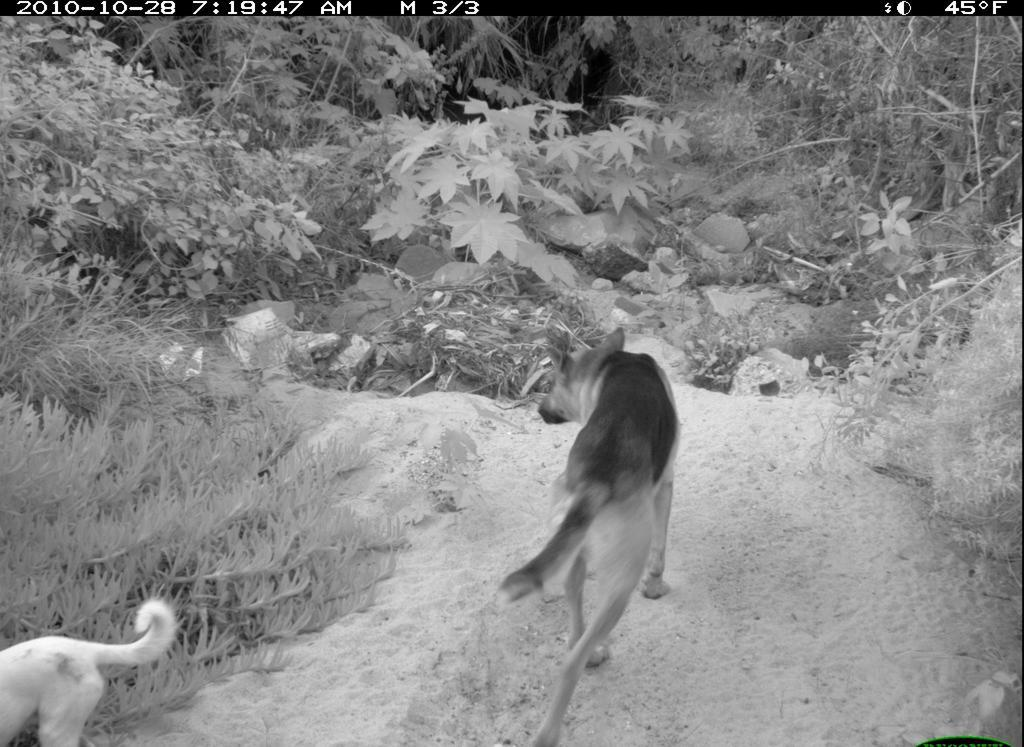dog: (495, 322, 688, 747), (1, 597, 181, 747)
